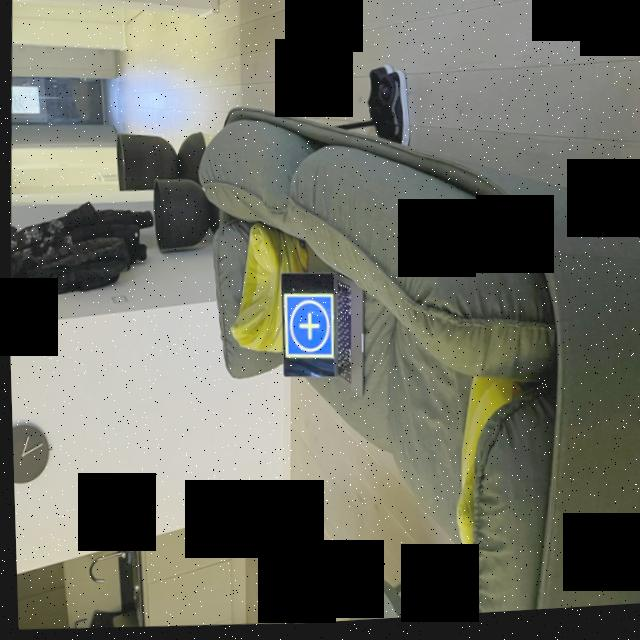Marker: (278, 295, 332, 363)
